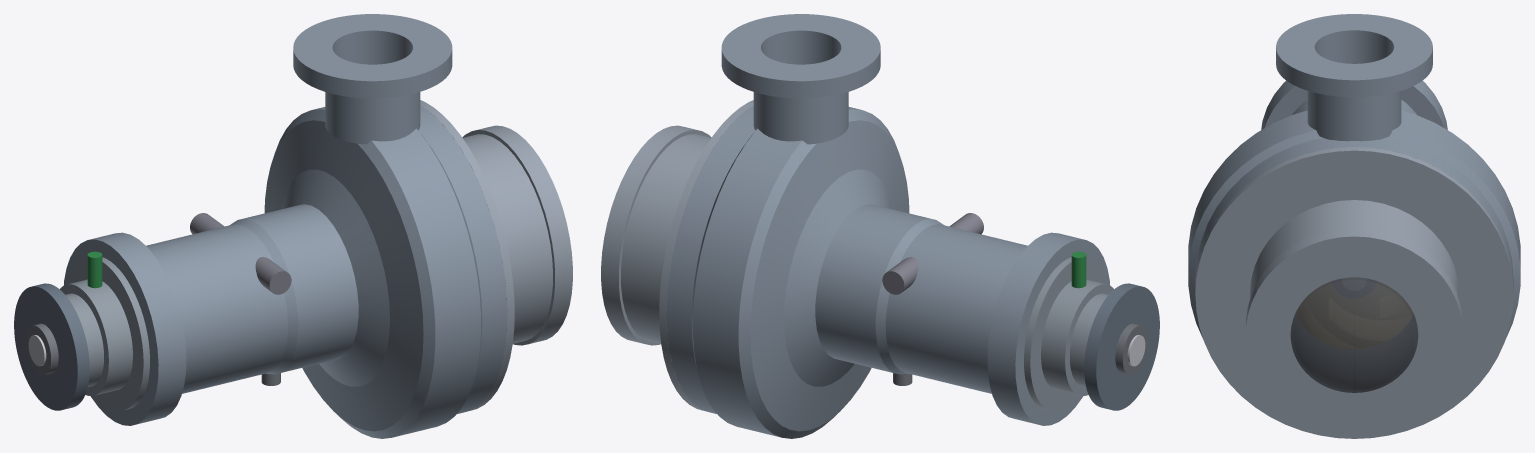
The model's file is NCPK_stupen_ND.glb.
The picture shows the model from 3 angles, left to right: view 1: azimuth 30°, elevation 25°; view 2: azimuth 150°, elevation 25°; view 3: azimuth 270°, elevation 25°; orthographic projection.
Parts seen in each view (by area): view 1: 20 Корпус насоса, 12 Крышка насоса, Напорный патрубок (к коллектору), 25 Корпус задней опоры, 1 Полумуфта, 8 Вилка (ось рукоятки включения ВД), Гайка конца вала, 2 Датчик тахометра; view 2: 20 Корпус насоса, 12 Крышка насоса, Напорный патрубок (к коллектору), 25 Корпус задней опоры, 1 Полумуфта, 8 Вилка (ось рукоятки включения ВД), Гайка конца вала, 2 Датчик тахометра; view 3: 12 Крышка насоса, 20 Корпус насоса, Напорный патрубок (к коллектору), 13 Сетка.
Boxes of the visible parts, x1,y1,x2,y2 form: 20 Корпус насоса: (63, 106, 507, 438); 12 Крышка насоса: (420, 100, 572, 411); Напорный патрубок (к коллектору): (293, 14, 452, 144); 25 Корпус задней опоры: (59, 257, 149, 410); 1 Полумуфта: (14, 283, 89, 410); 8 Вилка (ось рукоятки включения ВД): (190, 213, 291, 294); Гайка конца вала: (25, 323, 58, 375); 2 Датчик тахометра: (87, 251, 102, 288); 20 Корпус насоса: (666, 106, 1110, 438); 12 Крышка насоса: (601, 100, 753, 411); Напорный патрубок (к коллектору): (721, 14, 880, 144); 25 Корпус задней опоры: (1024, 257, 1114, 410); 1 Полумуфта: (1084, 283, 1159, 410); 8 Вилка (ось рукоятки включения ВД): (882, 213, 983, 294); Гайка конца вала: (1115, 323, 1148, 375); 2 Датчик тахометра: (1071, 251, 1086, 288); 12 Крышка насоса: (1195, 147, 1513, 438); 20 Корпус насоса: (1188, 80, 1520, 339); Напорный патрубок (к коллектору): (1276, 14, 1432, 141); 13 Сетка: (1290, 277, 1418, 392).
Bounding box in the file's own units: 0.5428 × 0.389 × 0.3174.
